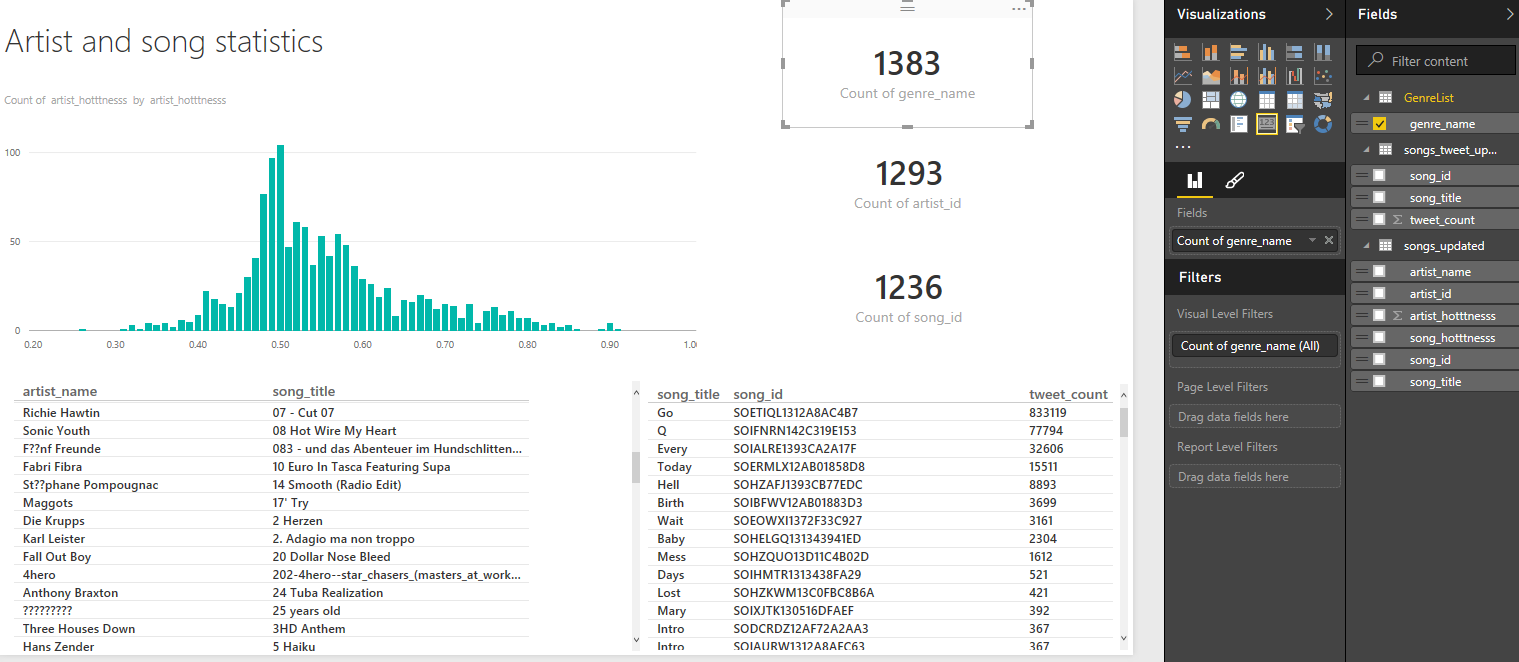

What the dashboard file says about the page in this screenshot:
{"tool":"powerbi","page":{"name":"Page 1","canvas":[1280,720],"ordinal":0},"visuals":[{"type":"textbox","box":[0,0,395,85],"z":0},{"type":"card","fields":{"Values":["Count(songs_updated.     artist_id      )"]},"box":[900,118.4,254,136],"z":1},{"type":"card","fields":{"Values":["Count(songs_updated.         id         )"]},"box":[914.9,245.4,222,139],"z":2},{"type":"clusteredColumnChart","fields":{"Y":["CountNonNull(songs_updated. artist_hotttnesss )"],"Category":["songs_updated. artist_hotttnesss "]},"box":[0,80.1,792,300],"z":3},{"type":"table","fields":{"Values":["songs_tweet_updated.song_title","songs_tweet_updated.song_id","songs_tweet_updated.tweet_count"]},"box":[726.5,413,551.5,305],"z":4},{"type":"table","fields":{"Values":["songs_updated.                      artist_name                      ","songs_updated.song_title"]},"box":[10,410,717.9,310],"z":5},{"type":"card","fields":{"Values":["Count(GenreList.name)"]},"box":[883.8,0,281,123],"z":6}]}

Visuals, with their boxes on the page's 1280x720 design canvas (x1, y1, x2, y2). These are canvas units, not pixel positions in the 1519x662 screenshot, which may show the page scaled, cropped or inside an application window:
textbox: BBox(0, 0, 395, 85)
card - Count(songs_updated.     artist_id      ): BBox(900, 118, 1154, 254)
card - Count(songs_updated.         id         ): BBox(915, 245, 1137, 384)
clusteredColumnChart - CountNonNull(songs_updated. artist_hotttnesss ) x songs_updated. artist_hotttnesss : BBox(0, 80, 792, 380)
table - songs_tweet_updated.song_title x songs_tweet_updated.song_id: BBox(726, 413, 1278, 718)
table - songs_updated.                      artist_name                       x songs_updated.song_title: BBox(10, 410, 728, 720)
card - Count(GenreList.name): BBox(884, 0, 1165, 123)
